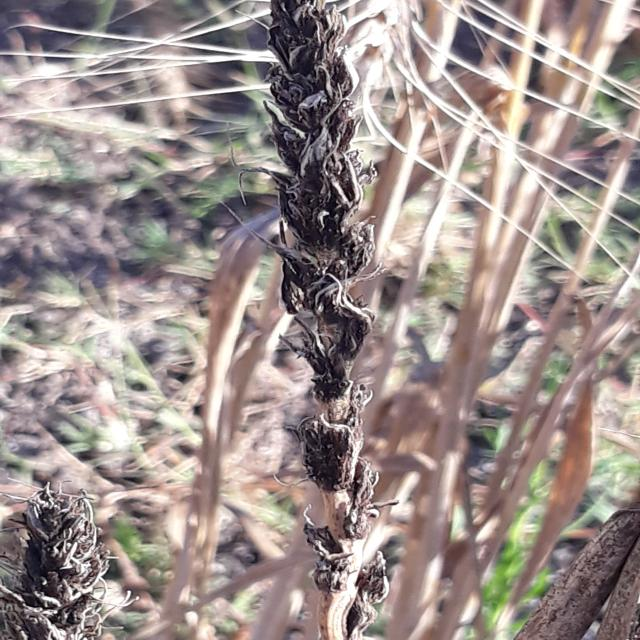loose_charred: (209, 0, 432, 640), (0, 448, 131, 639), (511, 512, 640, 640)
